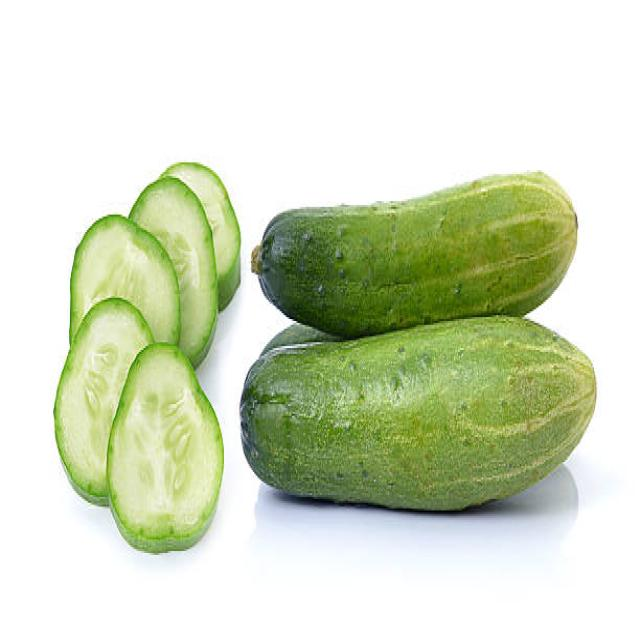cucumber: (239, 312, 597, 512), (259, 168, 576, 334)
